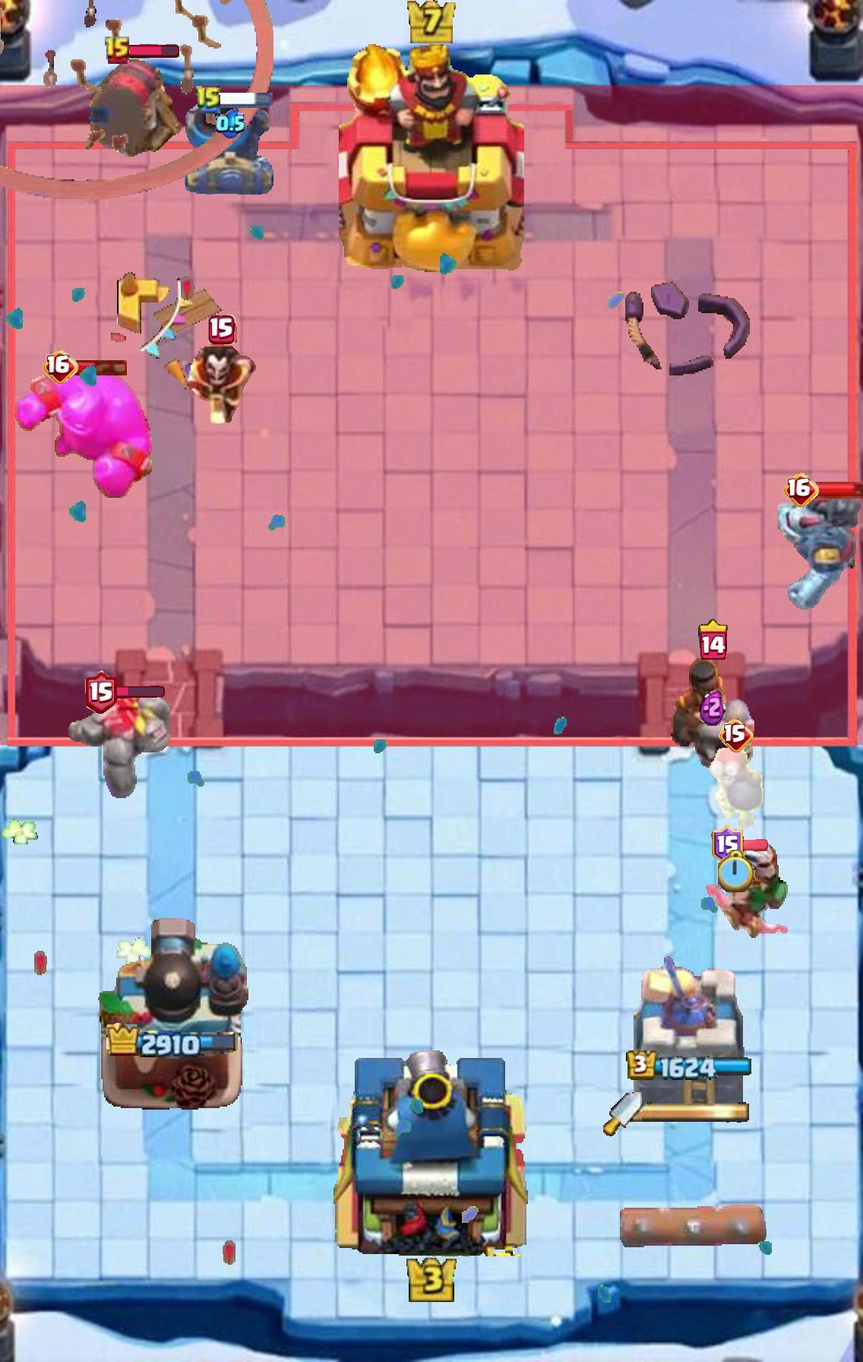bar: (74, 358, 129, 376), (815, 481, 863, 499), (128, 44, 179, 59), (113, 685, 165, 698), (739, 839, 768, 851)
bar-level: (85, 670, 117, 714), (711, 825, 744, 865), (43, 350, 79, 385), (783, 473, 819, 508), (719, 718, 754, 753), (698, 619, 727, 660), (208, 315, 236, 345), (104, 36, 131, 66)
